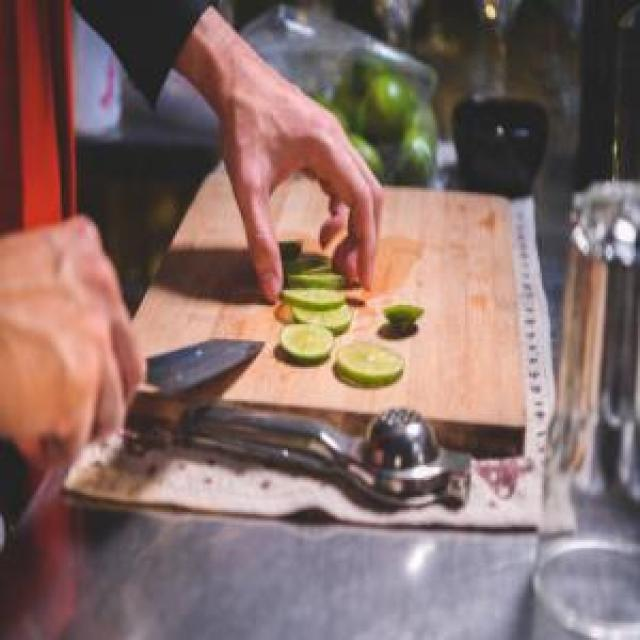knife: (126, 324, 264, 399)
